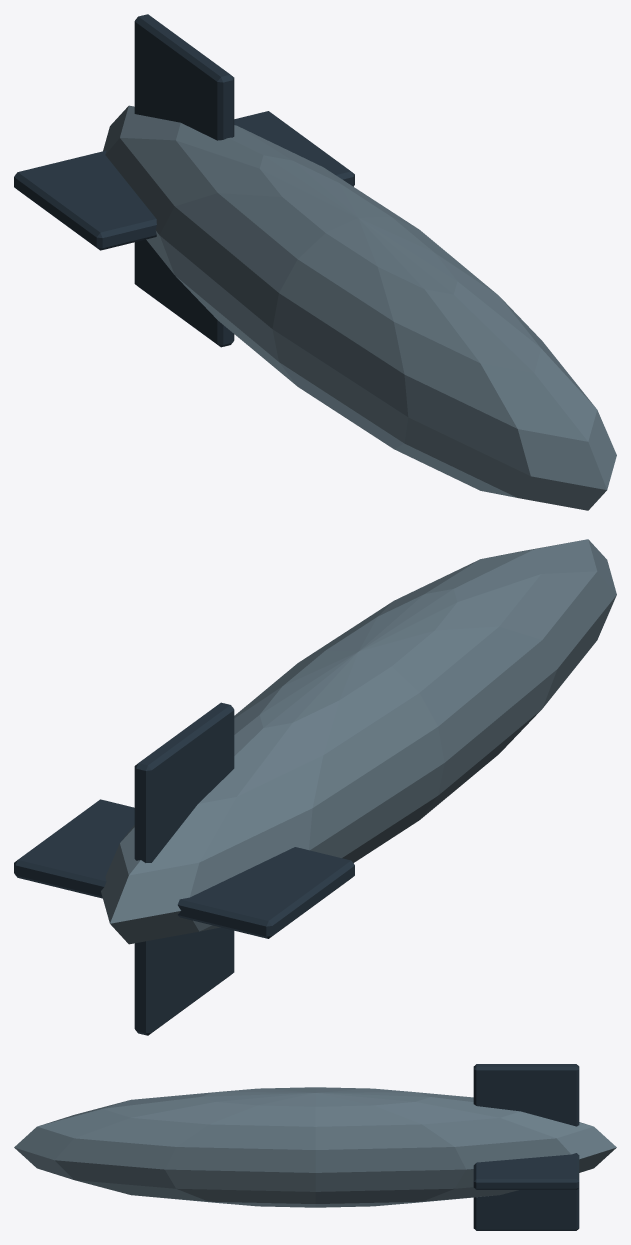
Rendered from equipment-torpedo.lod0.glb.
3 views of the same model, one above another, from view 1: azimuth 30°, elevation 25°; view 2: azimuth 150°, elevation 25°; view 3: azimuth 270°, elevation 25° (orthographic). The views are drawn at different scales.
Visible parts, largest first — view 1: equipment-torpedo__body; view 2: equipment-torpedo__body; view 3: equipment-torpedo__body.
Part boxes in pixels (x1,y1,x2,y2): equipment-torpedo__body: (14,14,616,510); equipment-torpedo__body: (14,539,616,1035); equipment-torpedo__body: (14,1064,616,1230).
Size of the model in its own units: 0.6 by 0.6 by 2.
